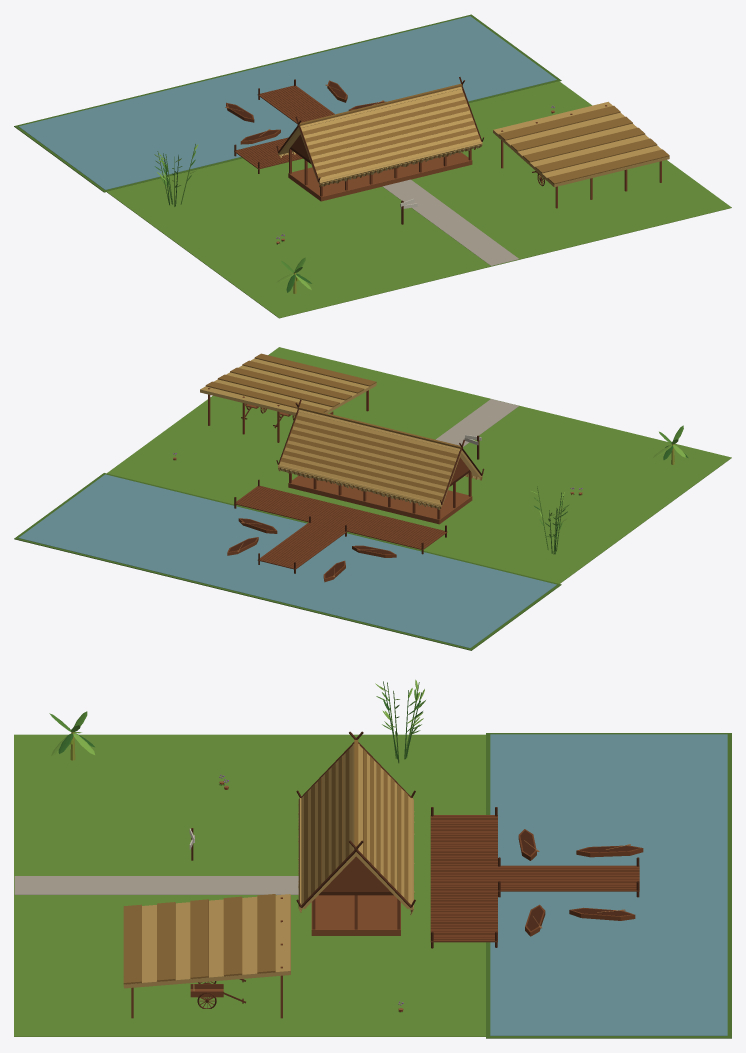
Rendered from station.glb.
3 renders of one model, top to bottom at view 1: azimuth 30°, elevation 25°; view 2: azimuth 150°, elevation 25°; view 3: azimuth 270°, elevation 25°, orthographic. The views are drawn at different scales.
Parts seen in each view (by area): view 1: body; view 2: body; view 3: body.
Part boxes in pixels (<box>): body: <box>14,14,731,318</box>; body: <box>14,347,731,650</box>; body: <box>14,679,731,1038</box>.
Bounding box in the file's own units: 48.4 × 7.71 × 48.15.
